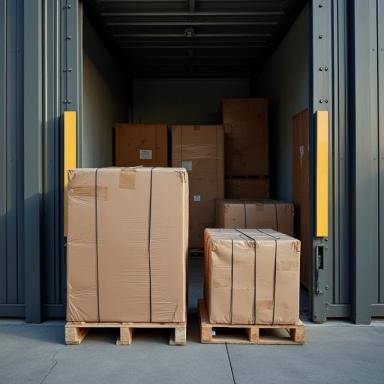pallet: (197, 298, 306, 346), (65, 306, 186, 345), (212, 327, 247, 336), (259, 328, 291, 337)
